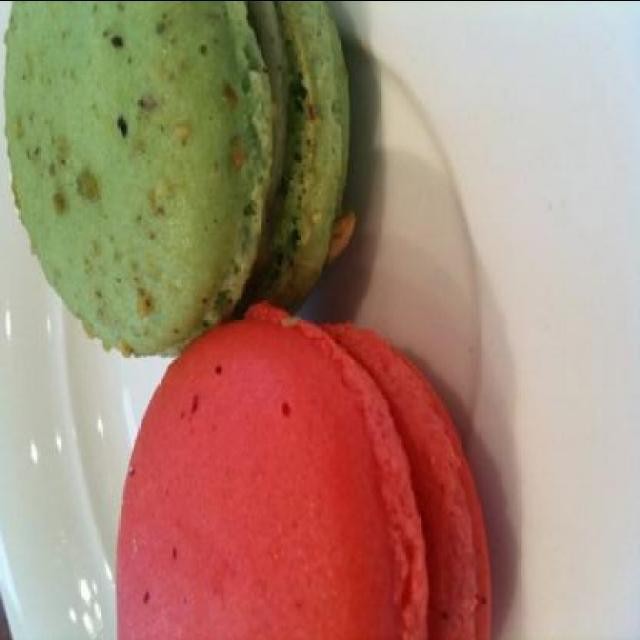Macaron: (3, 1, 540, 634)
